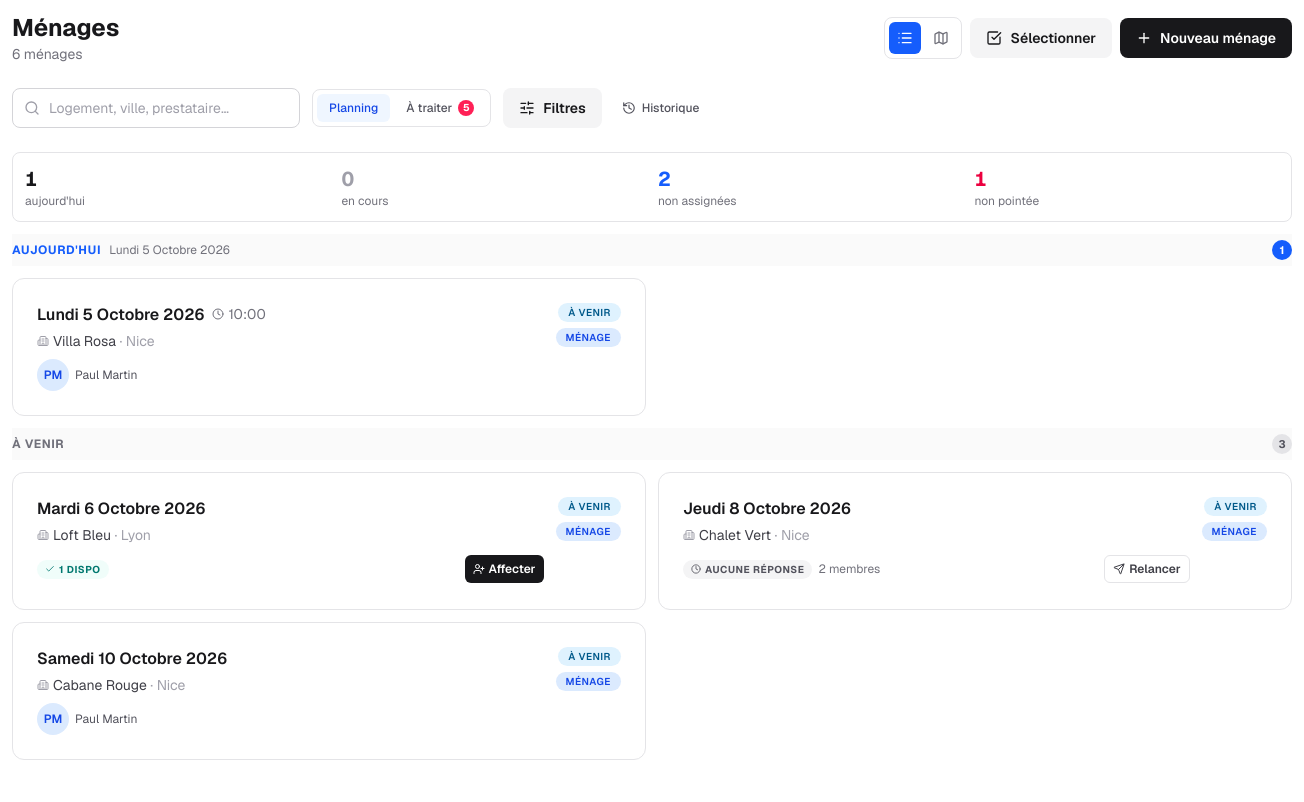
Scenario: Liste des prestations — filtres mémorisés › un filtre actif est signalé (compteur sur « Filtres », Réinitialiser actif) et mémorisé
Expected: the heading "Aujourd'hui" is shown, [12, 242, 101, 258]
Click the button "Filtres". click: (553, 108)
box: [503, 88, 602, 128]
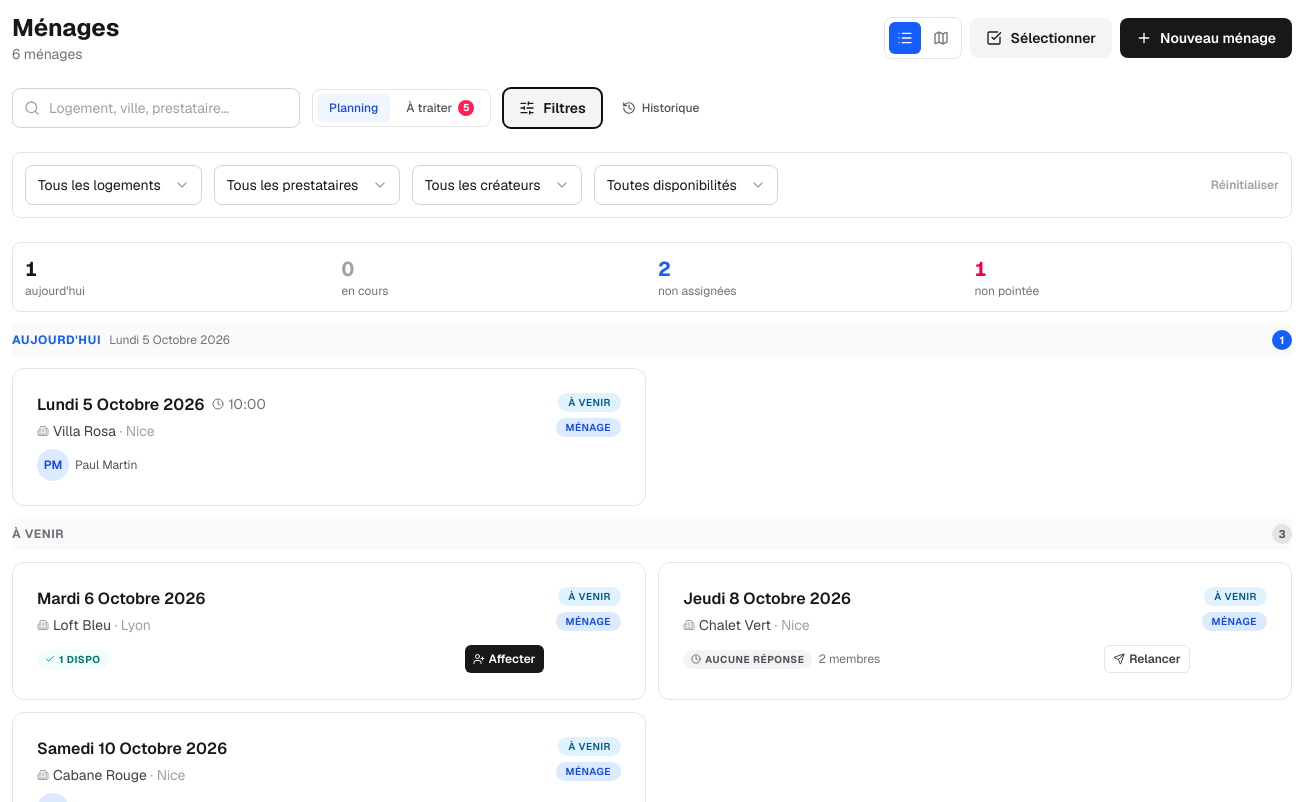
Select "Loft Bleu" in the dropdown named "Filtrer par logement". click: (114, 185)
box: [25, 165, 202, 205]
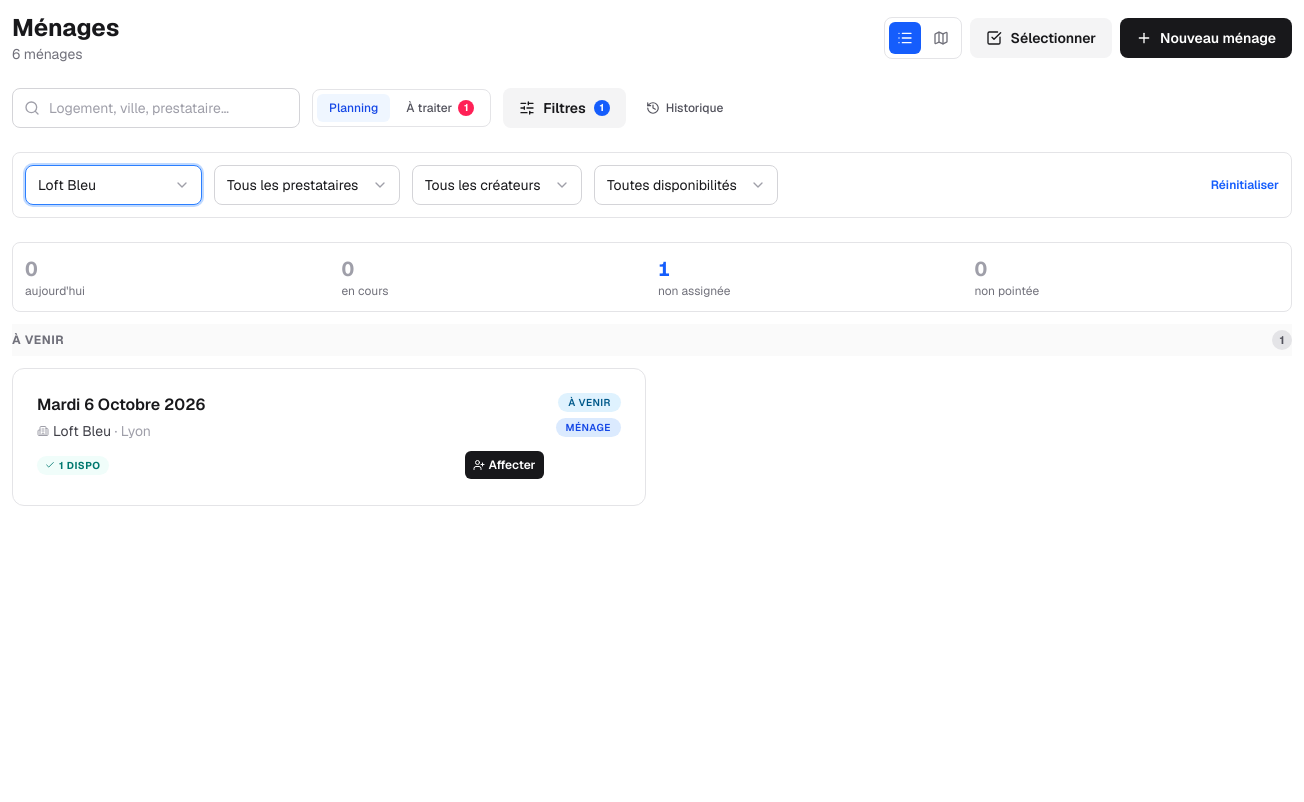
Expected: the button "Filtres 1" is shown, [503, 88, 626, 128]
Expected: the button "Réinitialiser" is enabled
Click the button "Réinitialiser". click: (1245, 185)
box: [1211, 177, 1279, 193]
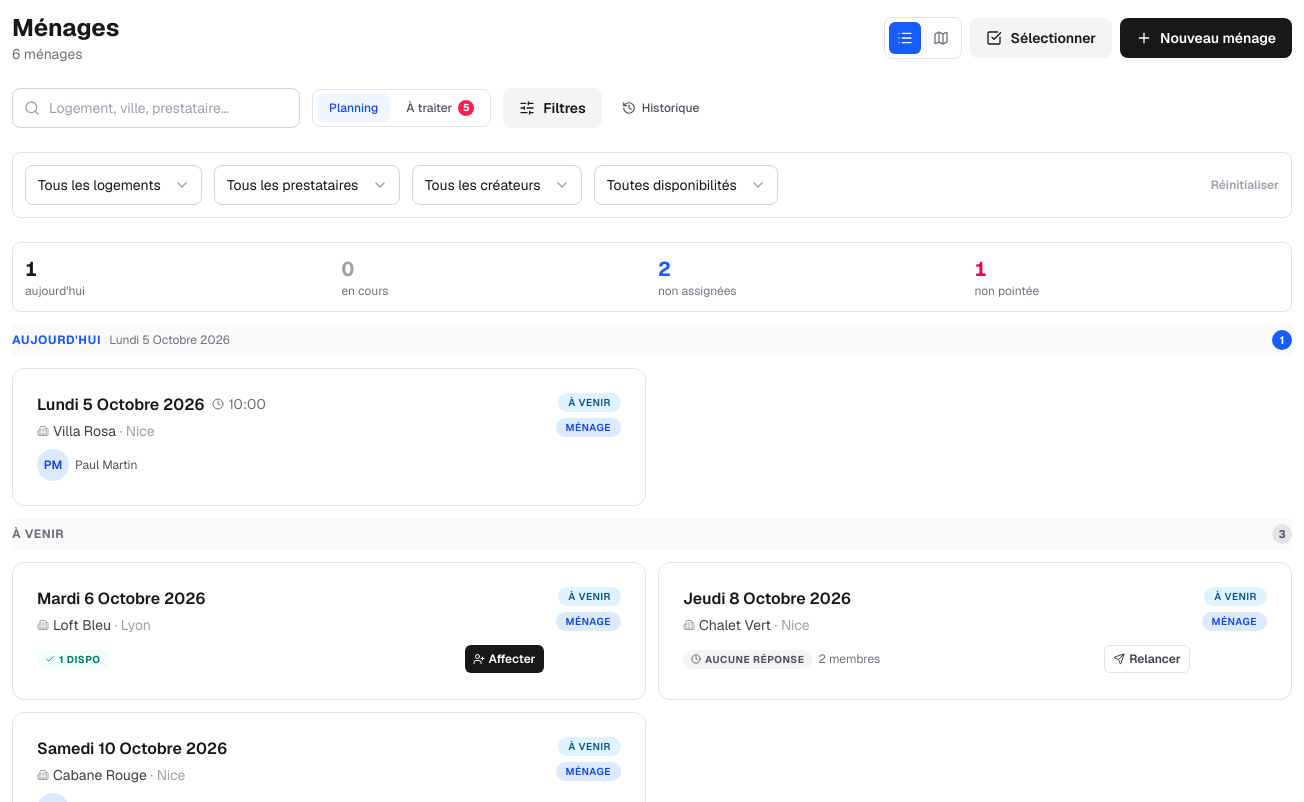
Expected: the button "Réinitialiser" is disabled, [1211, 177, 1279, 193]
